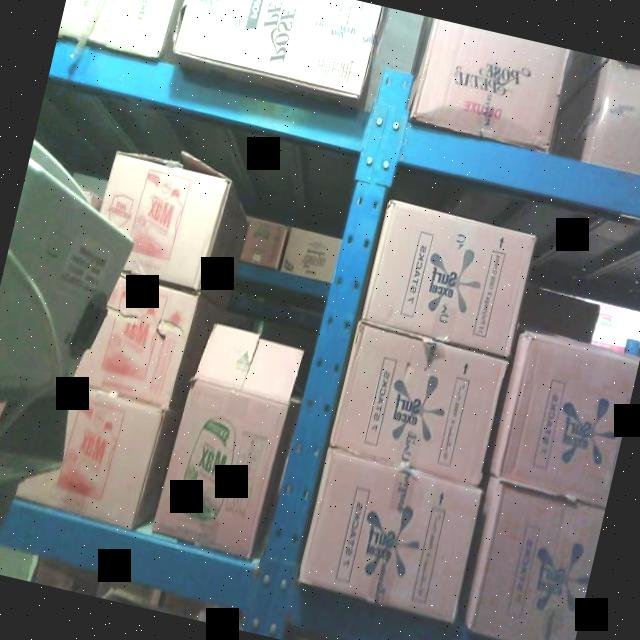box: (154, 330, 297, 552), (294, 462, 475, 616), (359, 202, 538, 357), (328, 328, 508, 482), (492, 337, 639, 506), (164, 0, 381, 101), (169, 0, 380, 100), (460, 493, 601, 640), (408, 24, 566, 148), (60, 276, 192, 410), (91, 158, 226, 289)
